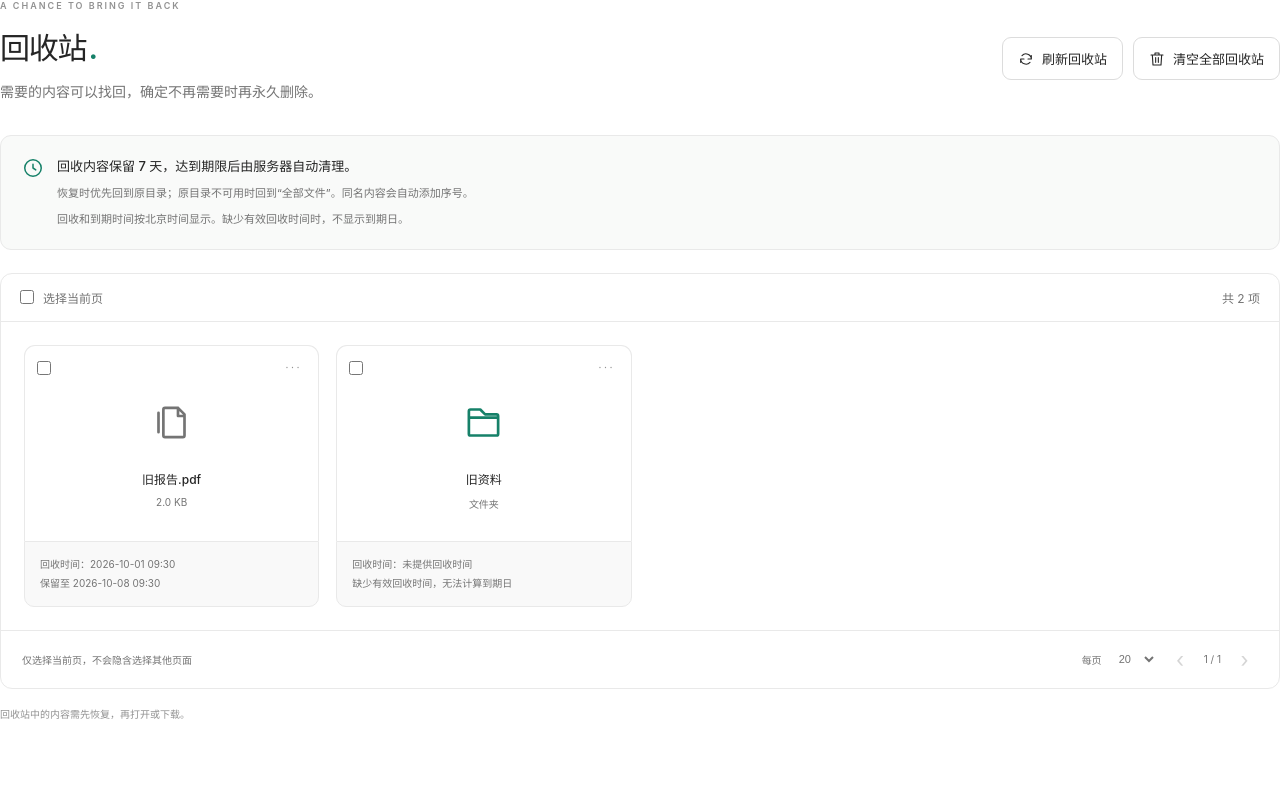
Test case: 回收站界面 › 显示真实策略、回收时间和截止日，缺时间的条目不编造期限
Expected: the element named "回收站保留策略" shows "保留 7 天", [57,158,357,174]
Expected: the element with class "recycle-card-shell" shows "回收时间：2026-10-01 09:30", [40,558,175,570]
Click the button named "旧报告.pdf 的详情和操作".
click(293, 368)  # box [279,355,306,381]
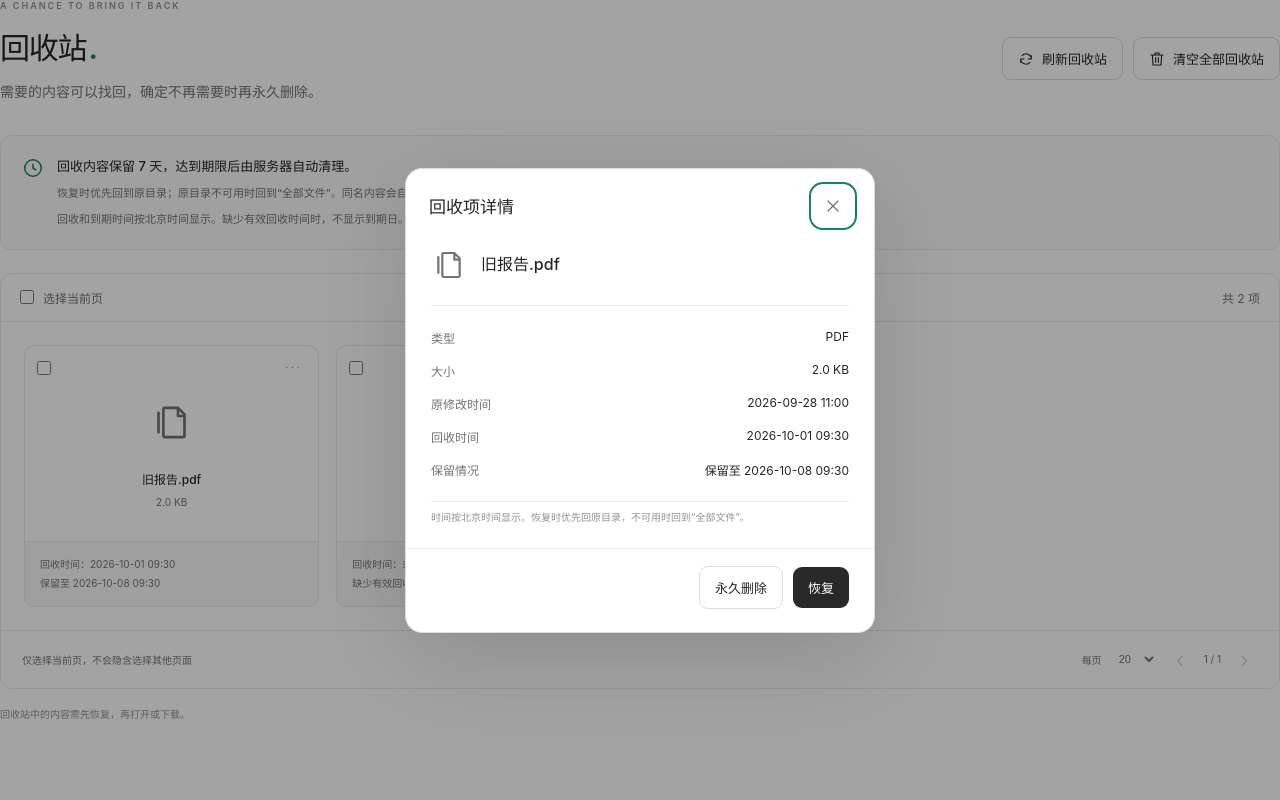
Expected: the element with class "file-details" shows "2026-09-28 11:00", [747,394,849,410]
Expected: the element with class "file-details" shows "2026-10-01 09:30", [747,428,849,442]
